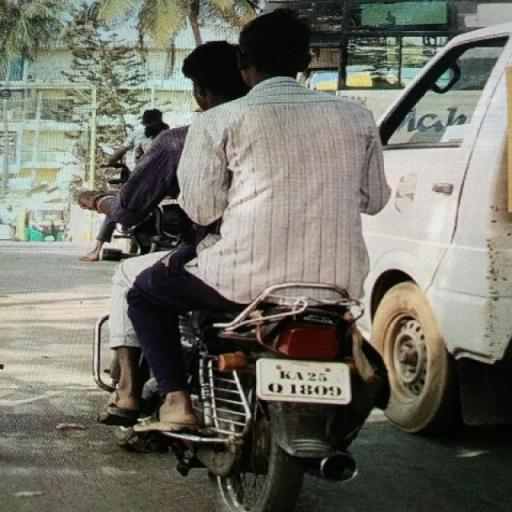bike: (82, 7, 394, 512)
numberplate: (257, 356, 349, 404)
withouthelmet: (241, 15, 307, 80), (190, 43, 241, 100)
